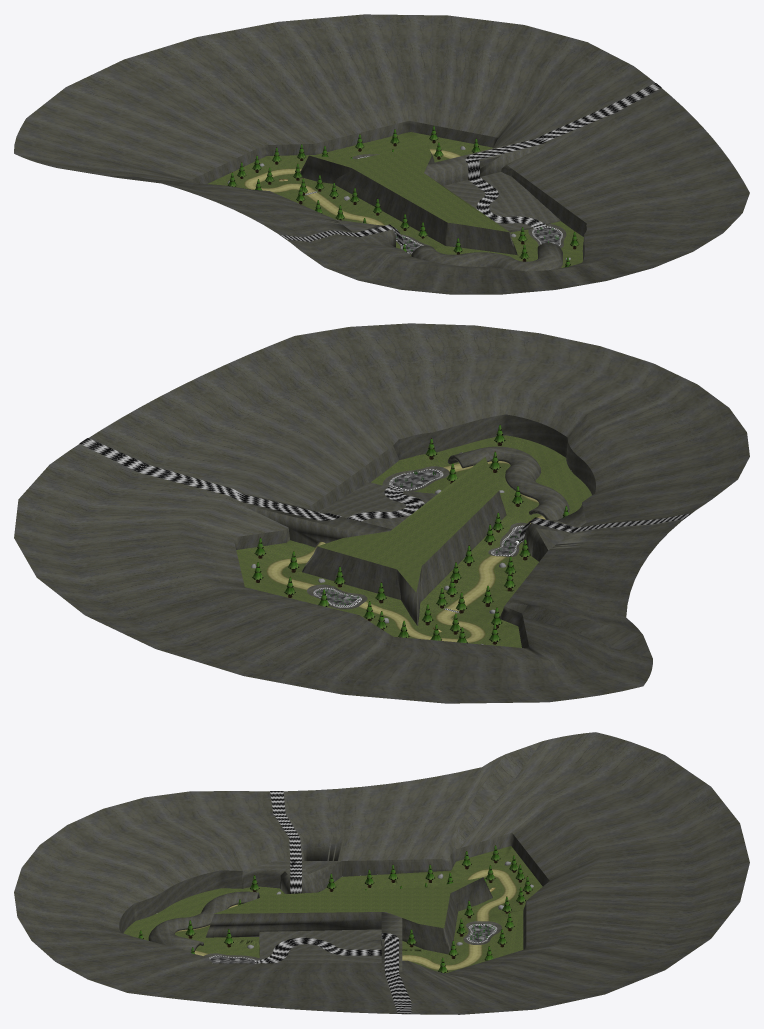
The picture shows the model from 3 angles, top to bottom: view 1: azimuth 30°, elevation 25°; view 2: azimuth 150°, elevation 25°; view 3: azimuth 270°, elevation 25°; orthographic projection. The views are drawn at different scales.
Visible parts, largest first — view 1: Untitled-SKP--Material5.021, Untitled-SKP--Material5.001, Untitled-SKP--Material5.033, Untitled-SKP--Material5.023, Untitled-SKP--Material5.032, Untitled-SKP--Material5.017, Untitled-SKP--Material5.018, Untitled-SKP--Material5.034; view 2: Untitled-SKP--Material5.021, Untitled-SKP--Material5.001, Untitled-SKP--Material5.023, Untitled-SKP--Material5.033, Untitled-SKP--Material5.032, Untitled-SKP--Material5.017, Untitled-SKP--Material5.018, Untitled-SKP--Material5.034, Untitled-SKP--Material5.009; view 3: Untitled-SKP--Material5.021, Untitled-SKP--Material5.001, Untitled-SKP--Material5.023, Untitled-SKP--Material5.033, Untitled-SKP--Material5.032, Untitled-SKP--Material5.017, Untitled-SKP--Material5.018, Untitled-SKP--Material5.034.
Boxes of the visible parts, <box> form: Untitled-SKP--Material5.021: <box>14,14,749,294</box>; Untitled-SKP--Material5.001: <box>208,132,583,267</box>; Untitled-SKP--Material5.033: <box>189,120,586,254</box>; Untitled-SKP--Material5.023: <box>336,138,586,271</box>; Untitled-SKP--Material5.032: <box>280,83,661,244</box>; Untitled-SKP--Material5.017: <box>227,126,579,267</box>; Untitled-SKP--Material5.018: <box>244,149,468,225</box>; Untitled-SKP--Material5.034: <box>363,156,561,252</box>; Untitled-SKP--Material5.021: <box>14,323,749,703</box>; Untitled-SKP--Material5.001: <box>236,435,591,647</box>; Untitled-SKP--Material5.023: <box>239,414,595,609</box>; Untitled-SKP--Material5.033: <box>233,446,529,648</box>; Untitled-SKP--Material5.032: <box>79,438,690,542</box>; Untitled-SKP--Material5.017: <box>252,424,569,643</box>; Untitled-SKP--Material5.018: <box>266,461,545,642</box>; Untitled-SKP--Material5.034: <box>316,470,523,607</box>; Untitled-SKP--Material5.009: <box>313,469,524,607</box>; Untitled-SKP--Material5.021: <box>14,732,749,1014</box>; Untitled-SKP--Material5.001: <box>123,846,542,973</box>; Untitled-SKP--Material5.023: <box>119,861,501,972</box>; Untitled-SKP--Material5.033: <box>206,833,549,955</box>; Untitled-SKP--Material5.032: <box>256,791,411,1013</box>; Untitled-SKP--Material5.017: <box>138,845,532,972</box>; Untitled-SKP--Material5.018: <box>175,869,516,970</box>; Untitled-SKP--Material5.034: <box>210,926,497,963</box>.
Size of the model in its own units: 1.64e+07 by 1374565 by 1.8e+07.
44 materials, 43 textured.
